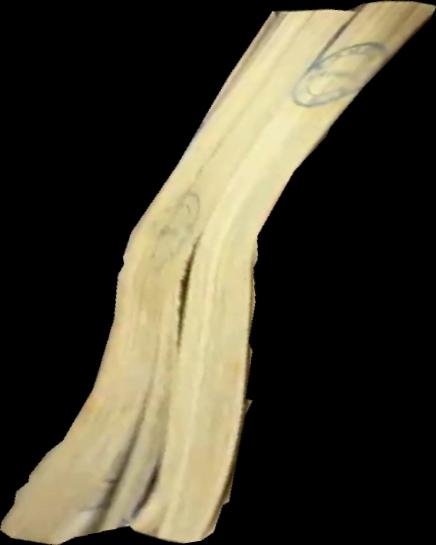backward: (1, 1, 436, 545)
